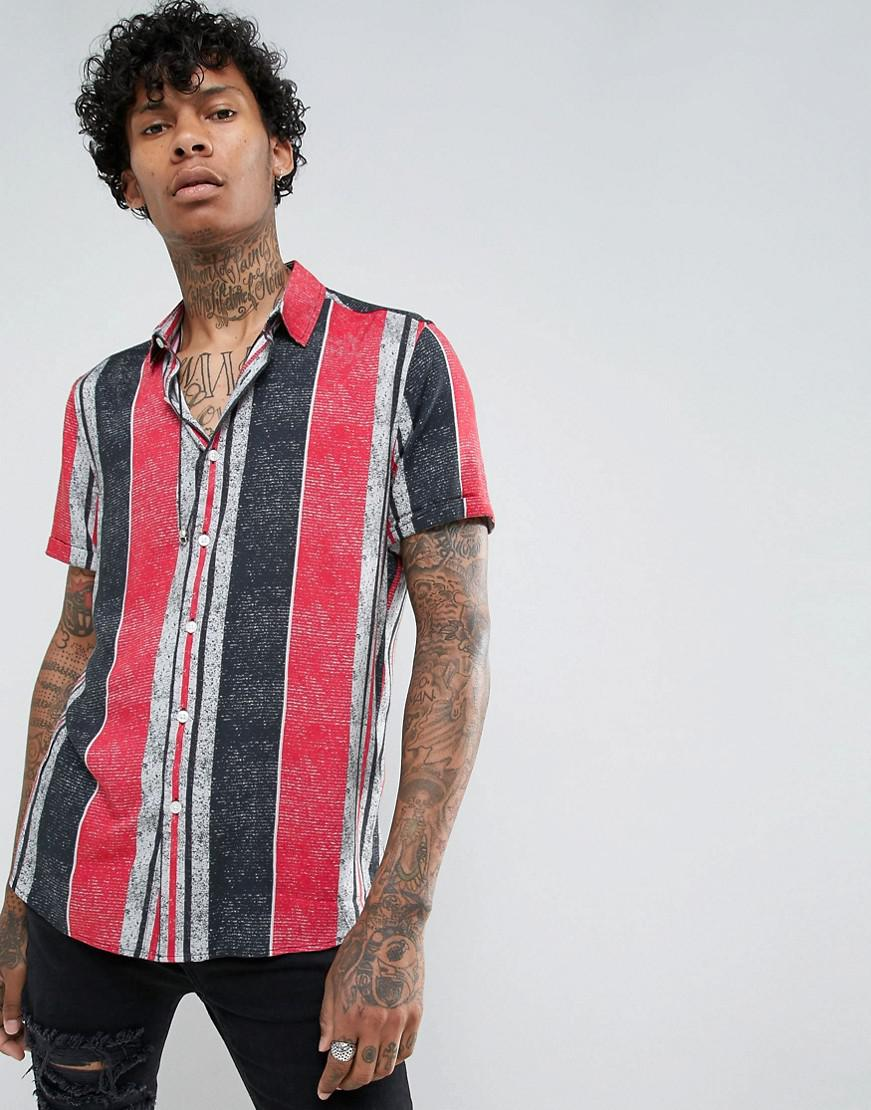teeshirt: (44, 278, 481, 988)
